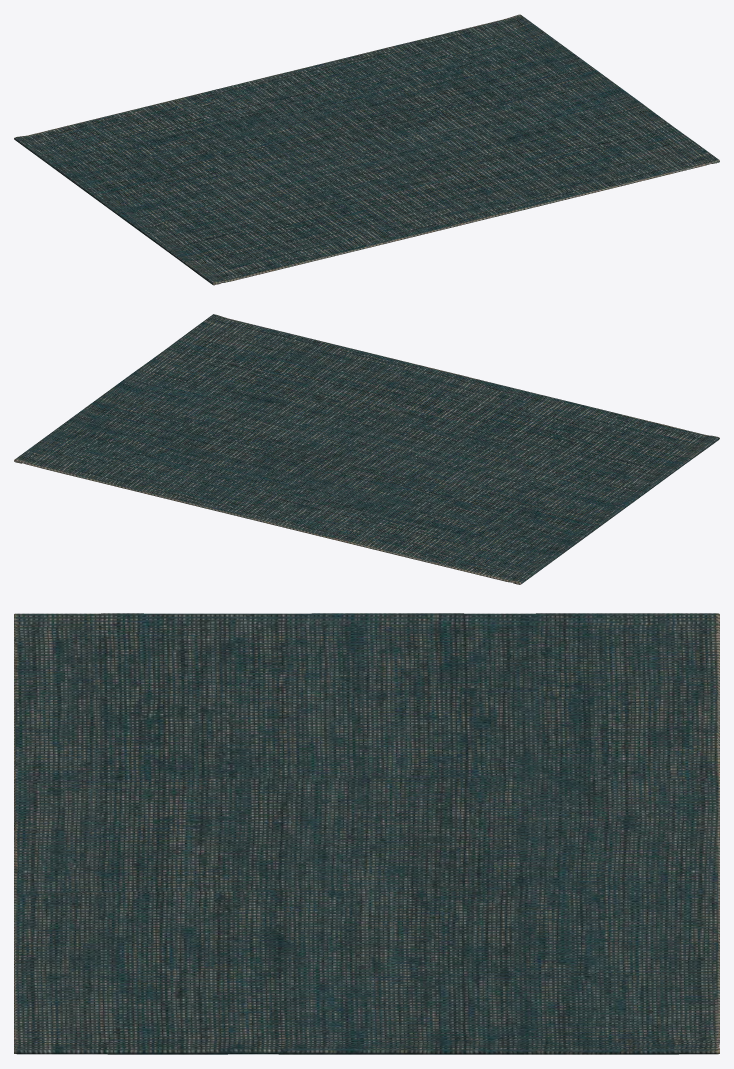
File: 30575609-mini.glb
3 views of the same model, one above another, from view 1: azimuth 30°, elevation 25°; view 2: azimuth 150°, elevation 25°; view 3: azimuth 270°, elevation 25° (orthographic). The views are drawn at different scales.
Parts seen in each view (by area): view 1: ASY_ART_30575609_S01_NV01; view 2: ASY_ART_30575609_S01_NV01; view 3: ASY_ART_30575609_S01_NV01.
Boxes of the visible parts, x1,y1,x2,y2 form: ASY_ART_30575609_S01_NV01: (14, 14, 719, 285); ASY_ART_30575609_S01_NV01: (14, 314, 719, 584); ASY_ART_30575609_S01_NV01: (14, 613, 719, 1054).
Bounding box in the file's own units: 1.95 × 0.0143 × 1.33.
1 material, 1 textured.
